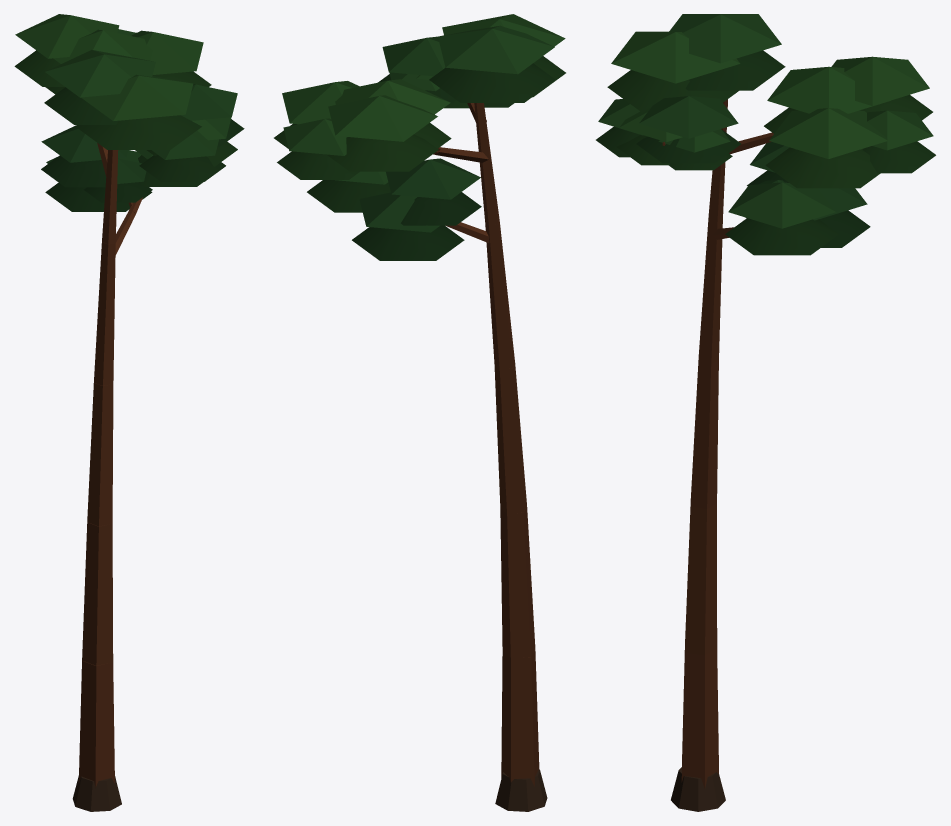
Rendered from tree_pine_3_far.glb.
3 views of the same model, side by side, from view 1: azimuth 30°, elevation 25°; view 2: azimuth 150°, elevation 25°; view 3: azimuth 270°, elevation 25° (orthographic). The views are drawn at different scales.
Visible parts, largest first — view 1: leaf, wood; view 2: leaf, wood; view 3: leaf, wood.
Part boxes in pixels (left/top/right/bottom): leaf: left=14, top=14, right=244, bottom=211; wood: left=72, top=143, right=142, bottom=811; leaf: left=274, top=14, right=565, bottom=260; wood: left=433, top=103, right=547, bottom=811; leaf: left=596, top=14, right=935, bottom=255; wood: left=662, top=99, right=773, bottom=811.
Size of the model in its own units: 3.69 by 13.31 by 5.17.
